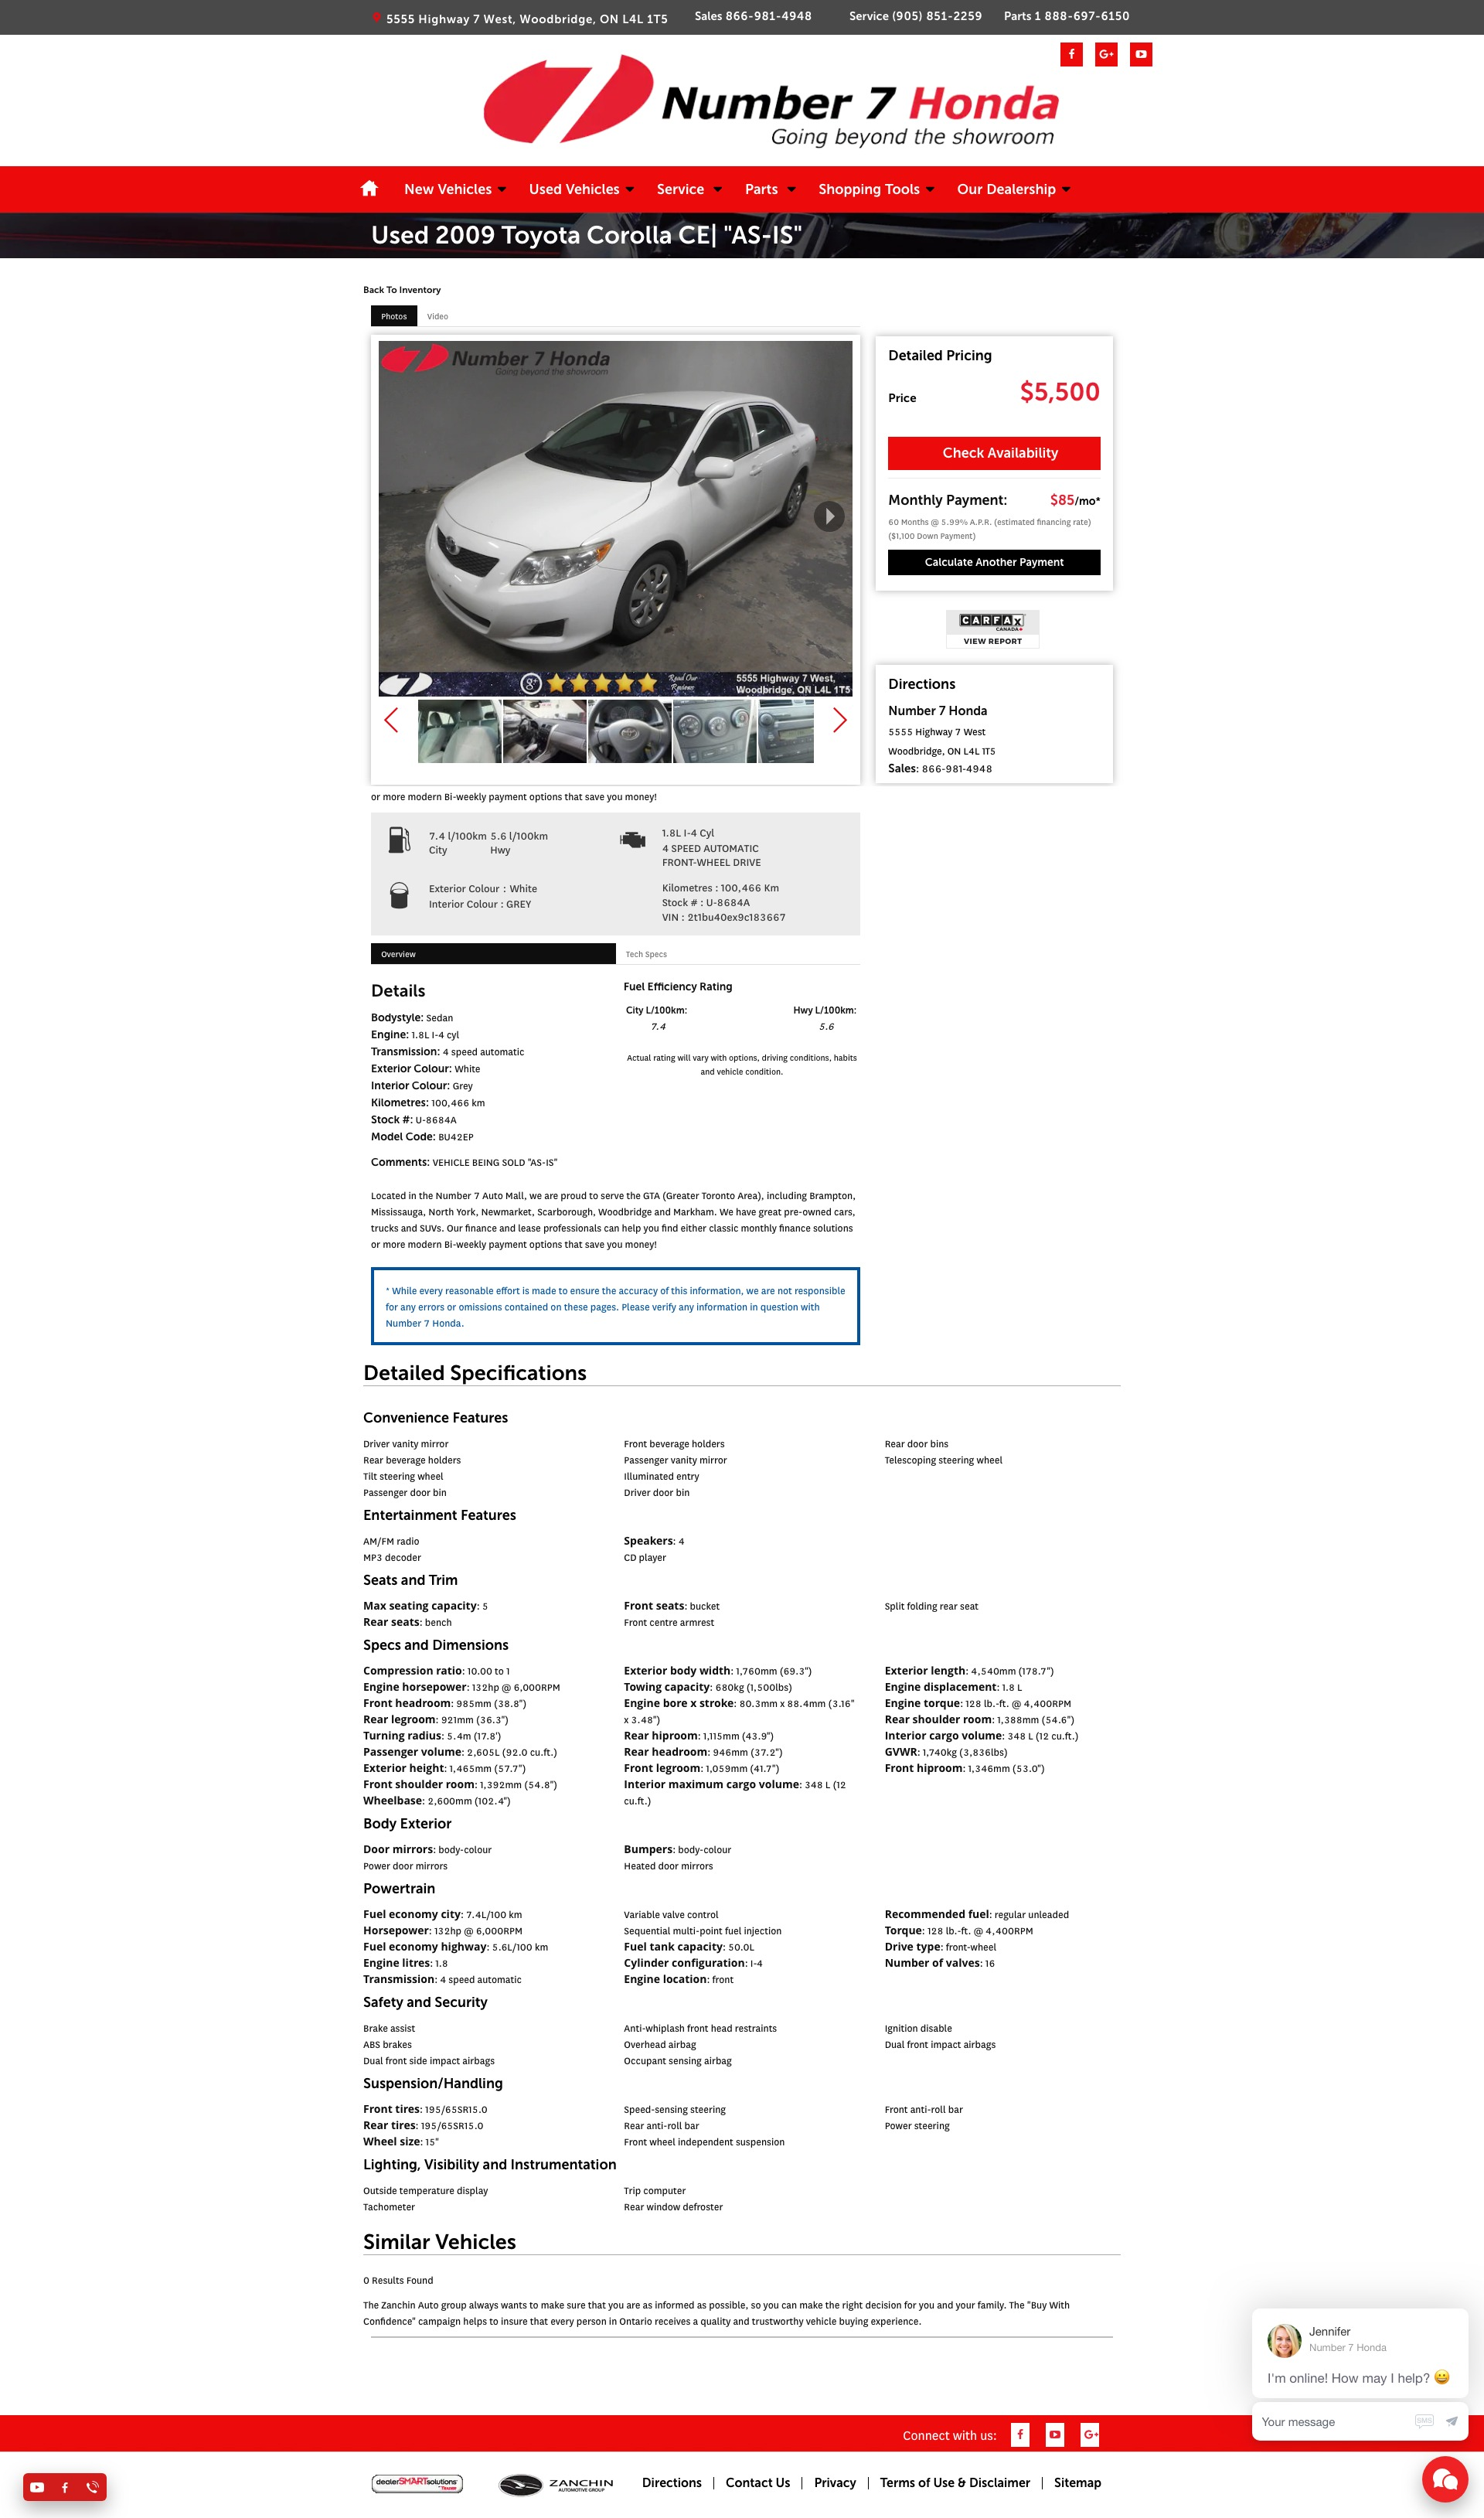car: (834, 707, 850, 735)
